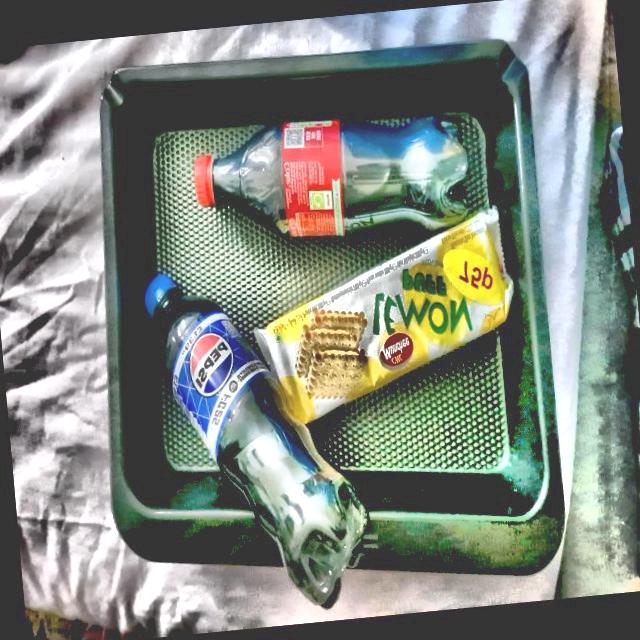coke-bottle: (192, 105, 479, 238)
lemon puff: (263, 204, 521, 424)
pepsi-bottle: (150, 266, 380, 595)
